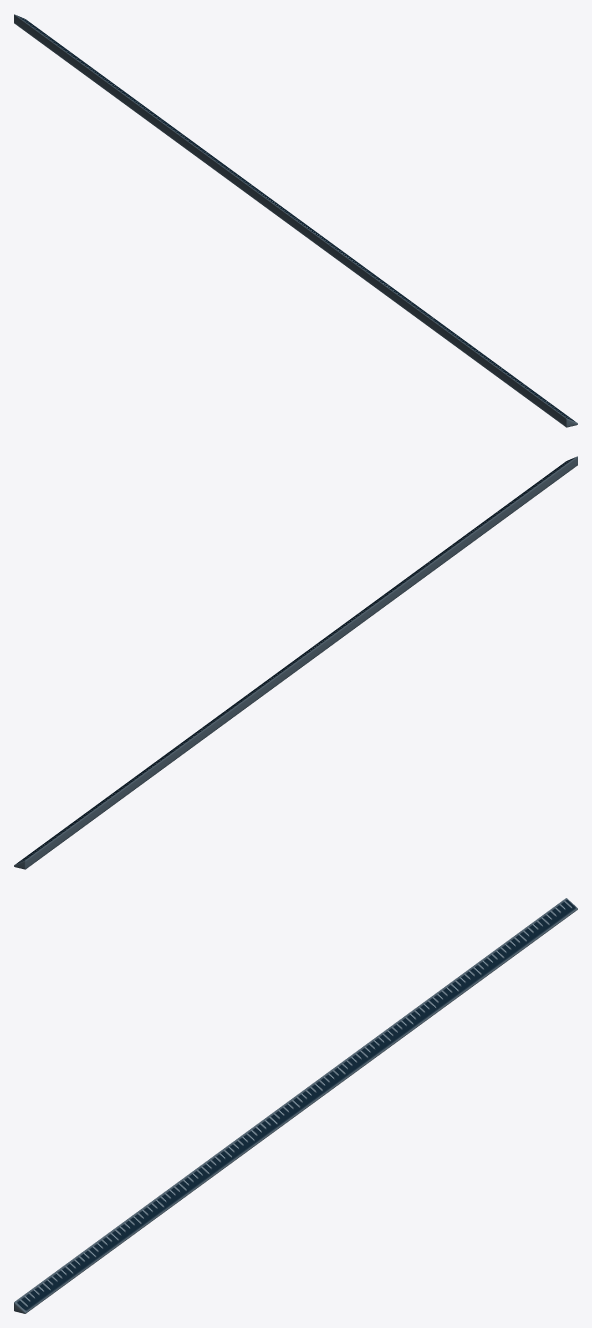
The model's file is Measure.fbx.
3 views of the same model, one above another, from view 1: azimuth 30°, elevation 25°; view 2: azimuth 150°, elevation 25°; view 3: azimuth 330°, elevation 25° (orthographic).
Visible parts, largest first — view 1: Measure; view 2: Measure; view 3: Measure.
Part boxes in pixels (left/top/right/bottom): Measure: left=14, top=14, right=577, bottom=427; Measure: left=14, top=456, right=577, bottom=869; Measure: left=14, top=898, right=577, bottom=1313.
Size of the model in its own units: 5.98 by 4.44 by 480.
1 material, 1 textured.
